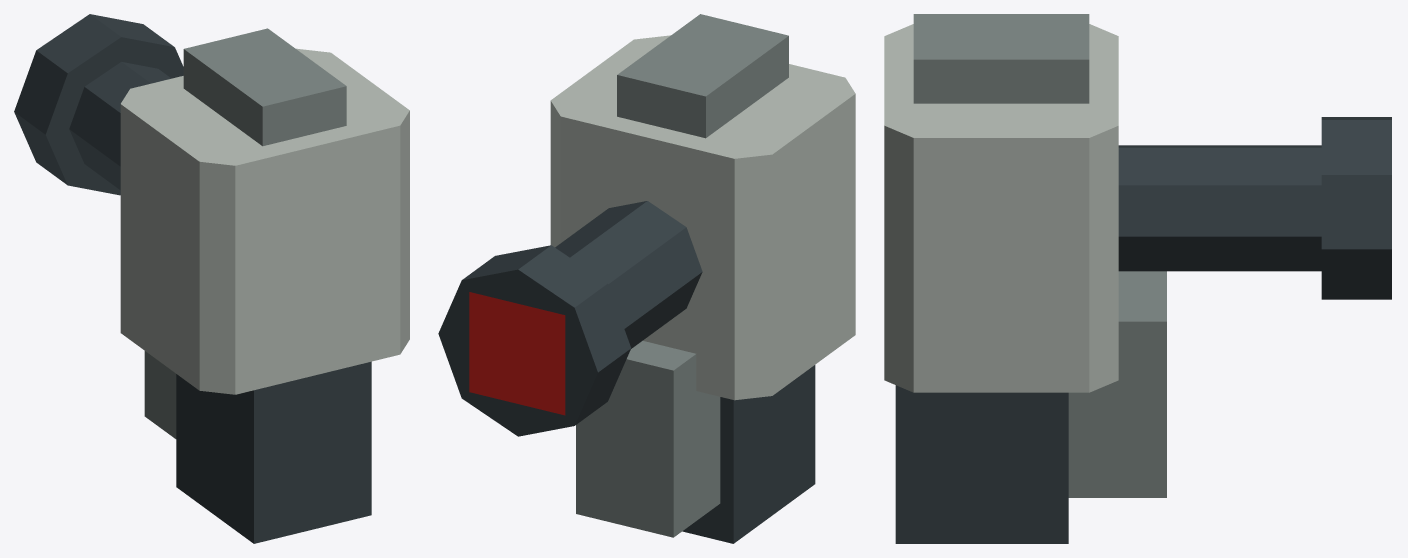
3 renders of one model, left to right at view 1: azimuth 30°, elevation 25°; view 2: azimuth 150°, elevation 25°; view 3: azimuth 270°, elevation 25°, orthographic. The views are drawn at different scales.
Visible parts, largest first — view 1: mount; view 2: mount; view 3: mount.
Boxes of the visible parts, x1=… form: mount: x1=14, y1=14, x2=409, y2=543; mount: x1=438, y1=14, x2=855, y2=543; mount: x1=884, y1=14, x2=1391, y2=543.
Size of the model in its own units: 4.88 by 9.46 by 9.18.
